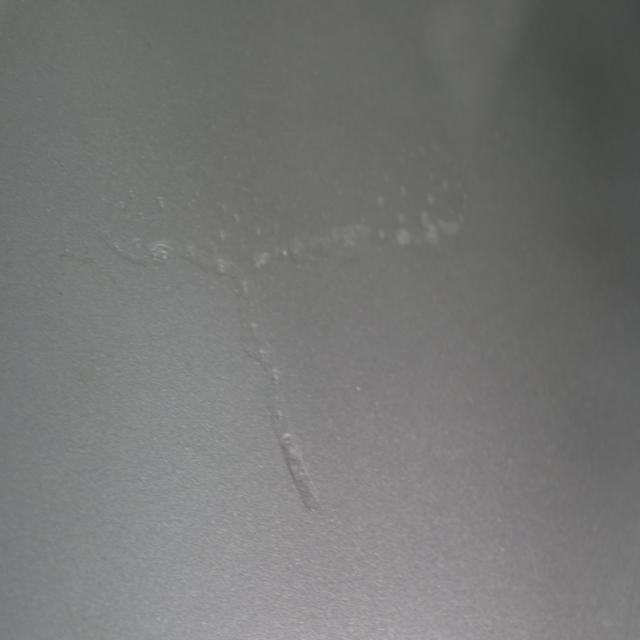runs: (95, 144, 472, 517)
